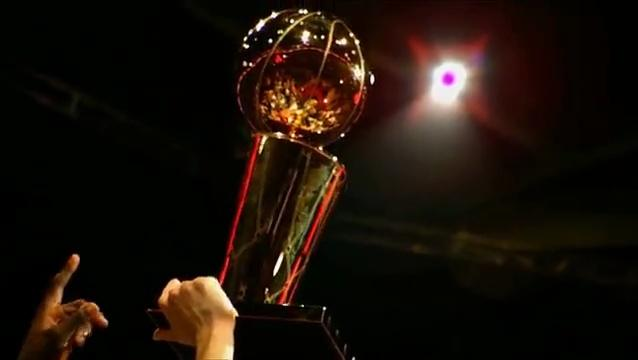Ball: (235, 6, 372, 158)
